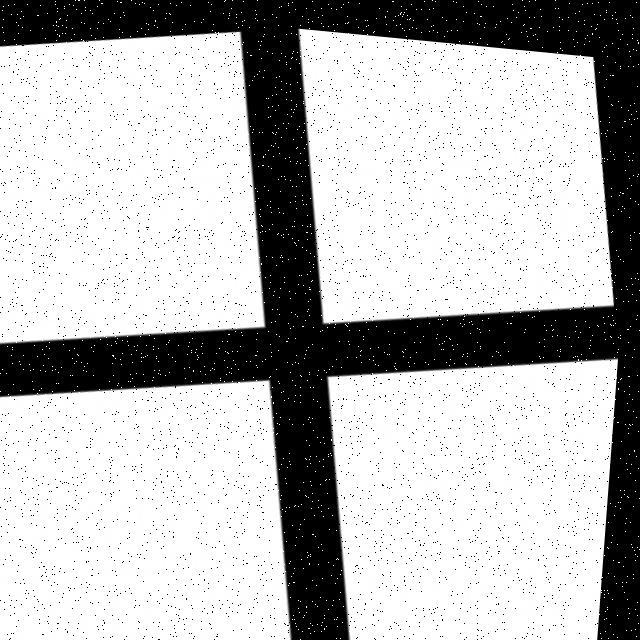cross: (120, 187, 492, 522)
